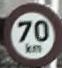Speed limit: (4, 2, 56, 62)
